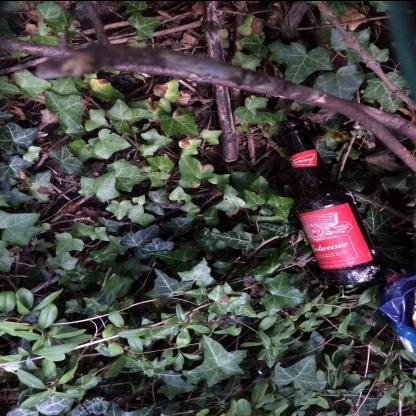cam: (285, 117, 385, 287)
